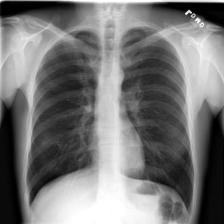normal: (19, 22, 201, 218)
